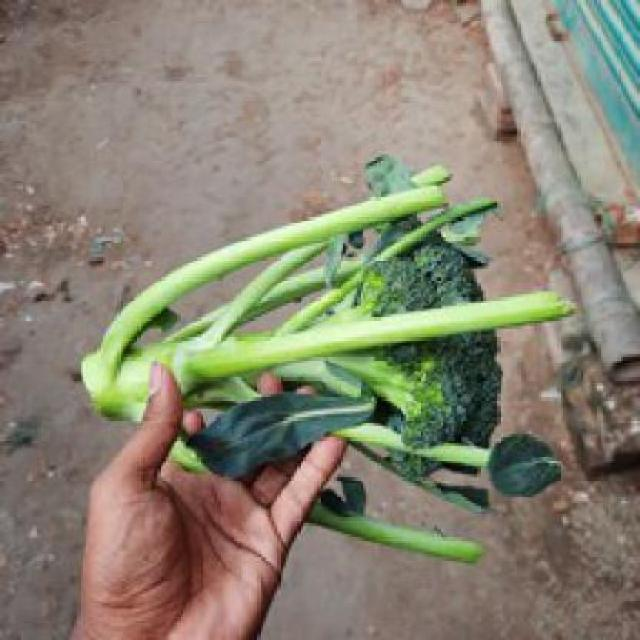broccoli: (100, 233, 549, 490)
